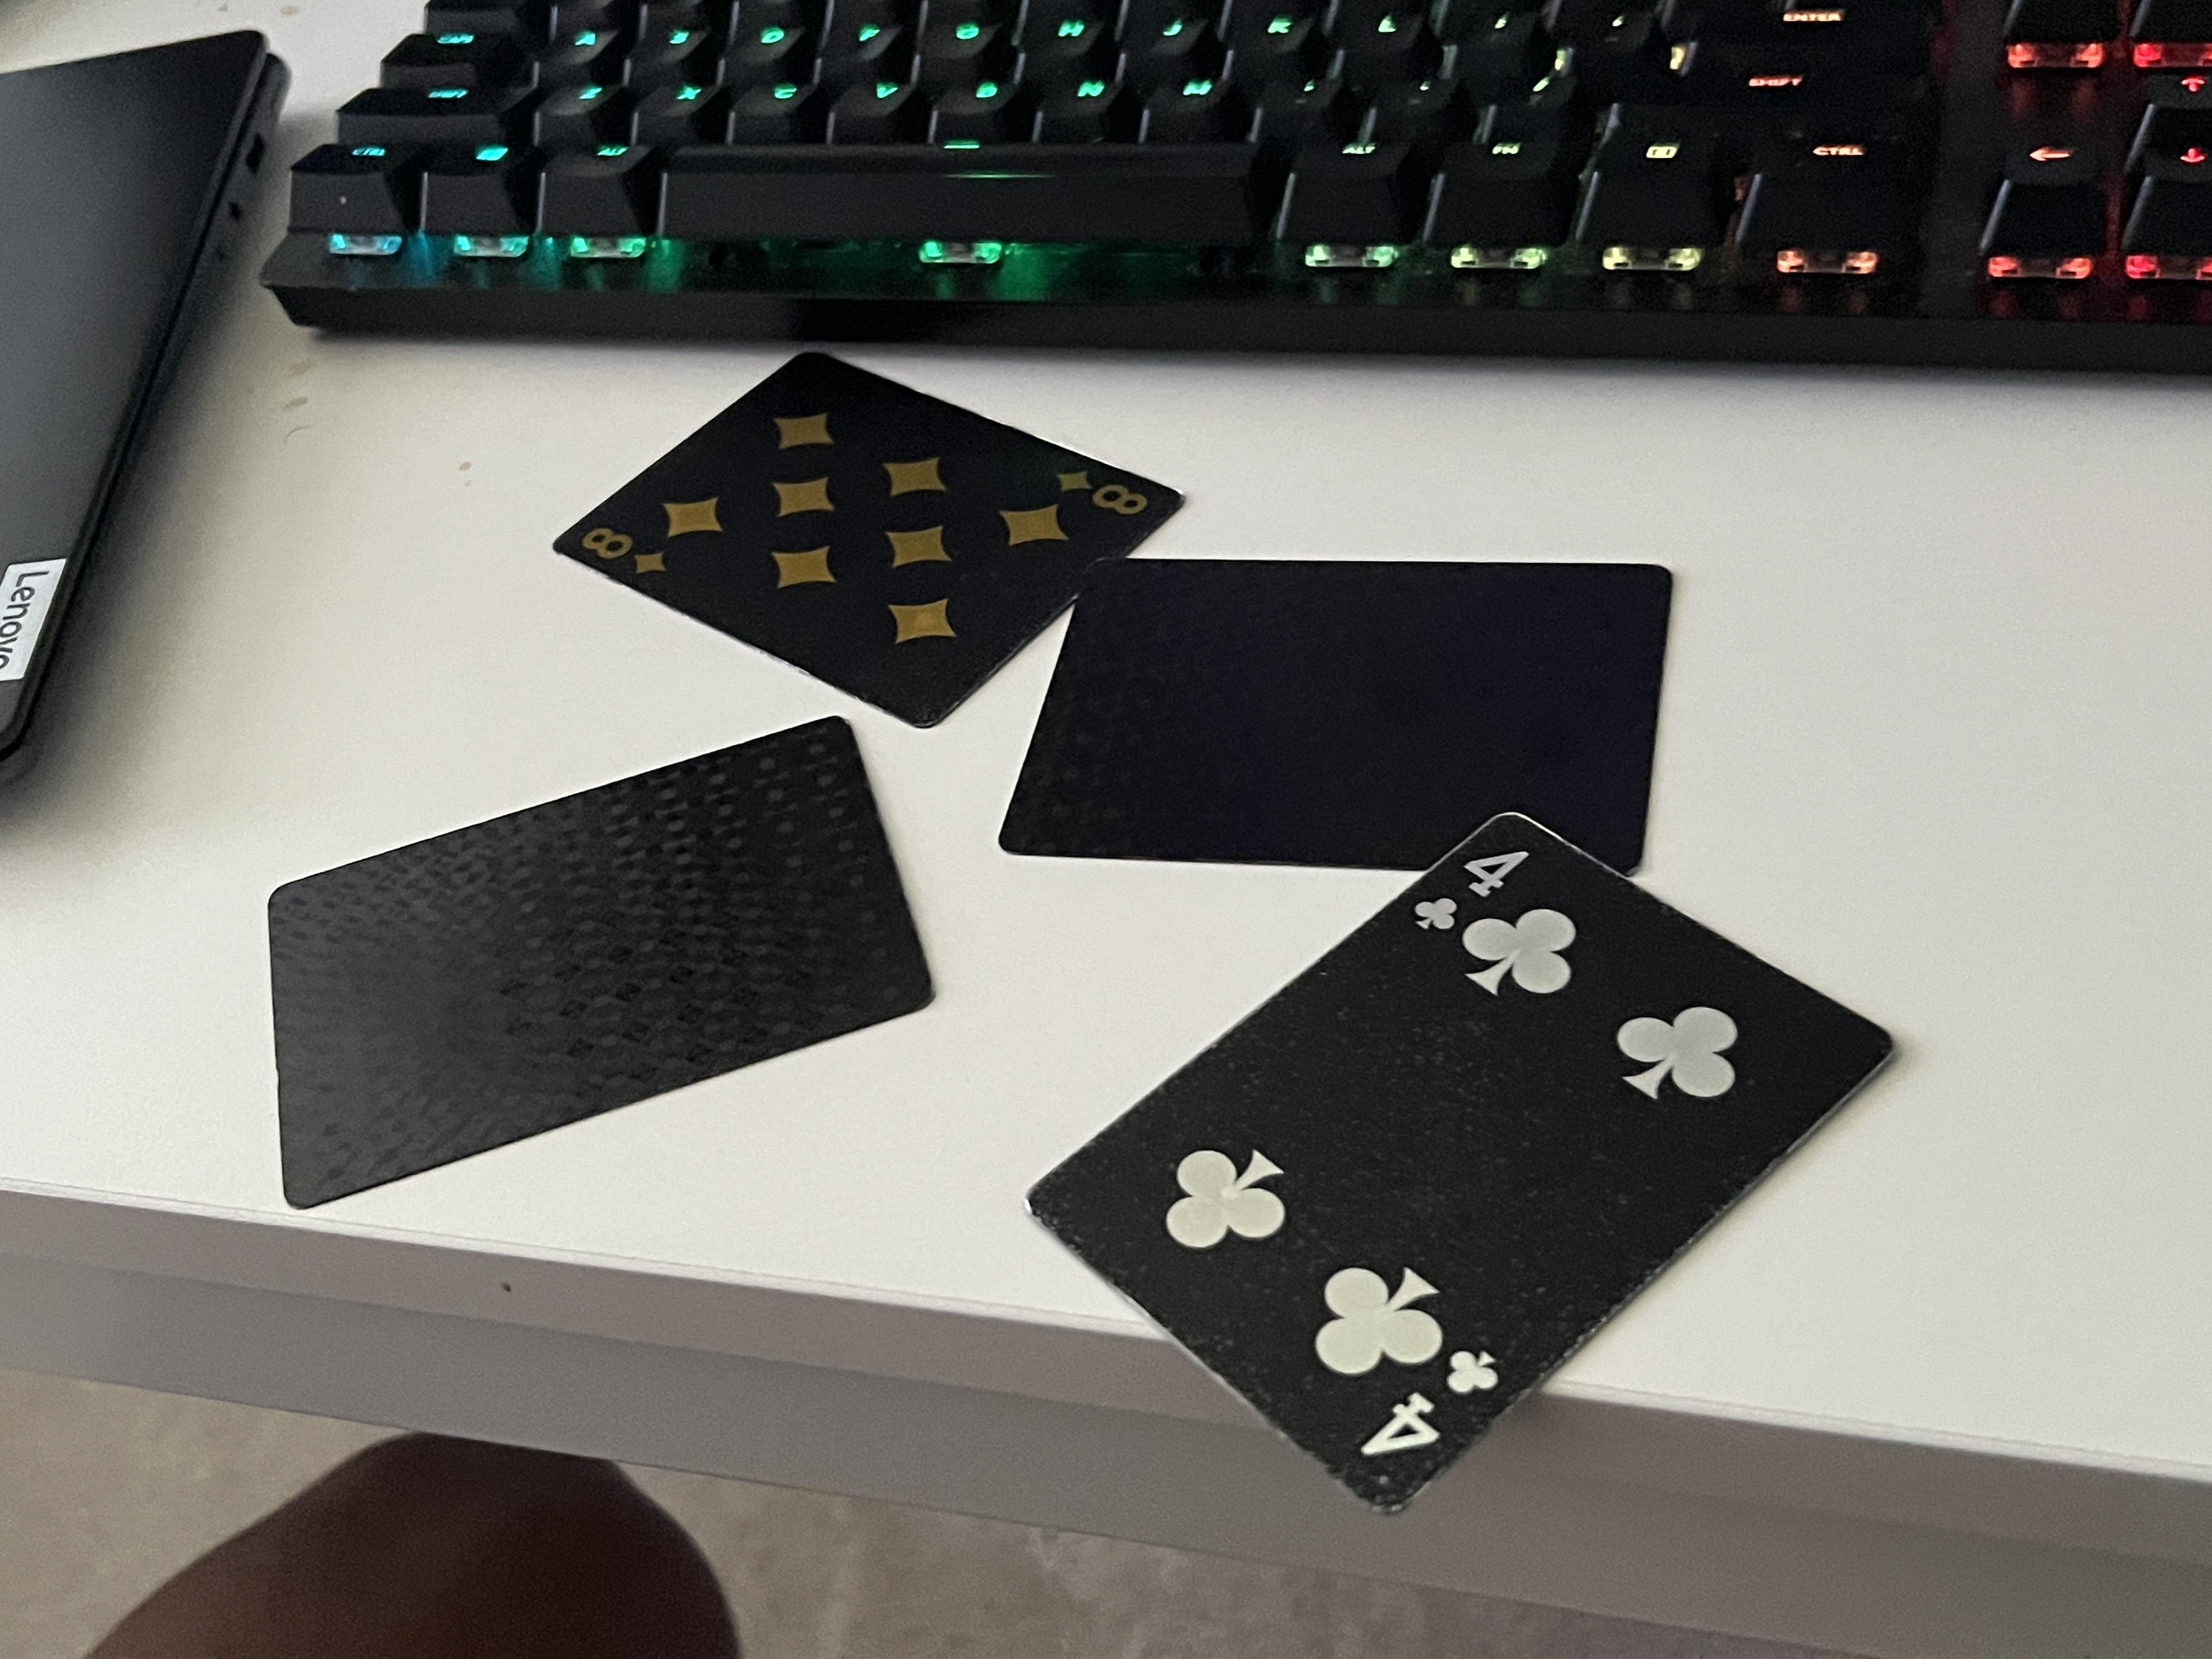4C: (1345, 1337, 1501, 1474), (1413, 840, 1533, 939)
8D: (1057, 458, 1163, 523), (577, 525, 671, 586)
BACK: (261, 694, 958, 1229), (995, 558, 1683, 884)
